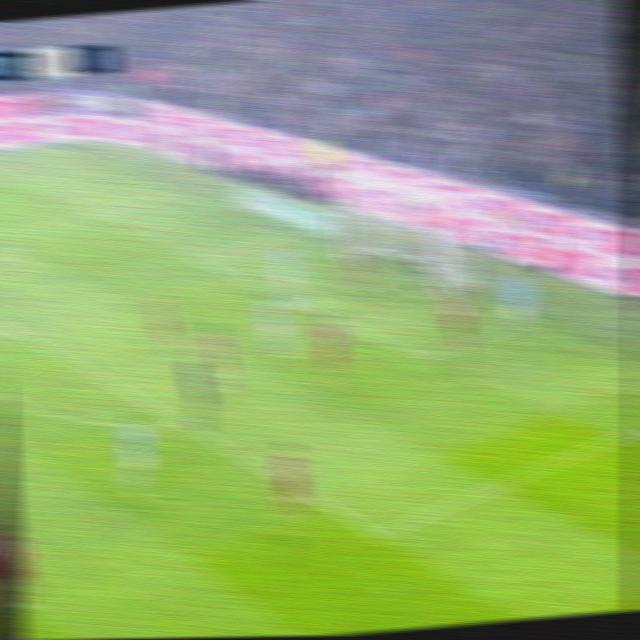bigarea_bottom_inner: (364, 520, 393, 547)
bigarea_top_outter: (160, 185, 184, 198)
bottom_arc_area_intersection: (168, 414, 190, 431)
corner: (41, 143, 65, 152)
smallarea_bottom_inner: (409, 347, 435, 366)
smallarea_top_inner: (185, 251, 211, 268)
smallarea_top_outter: (272, 229, 293, 241)
top_arc_area_intersection: (0, 320, 20, 336)
